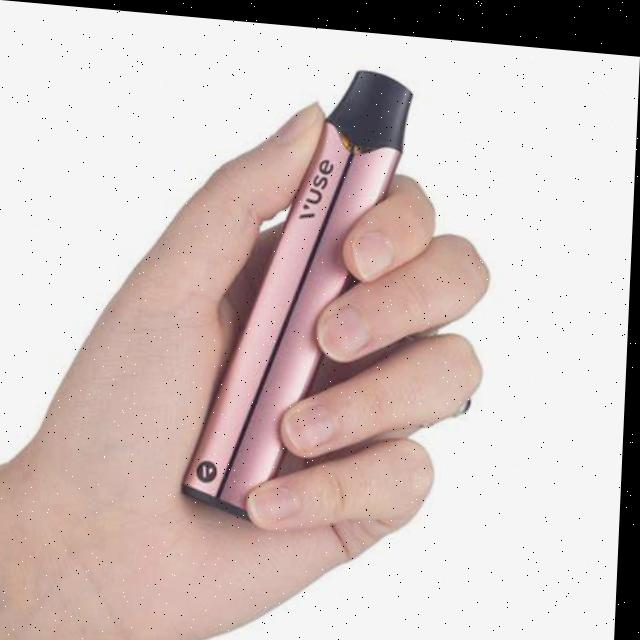vape: (182, 53, 417, 534)
